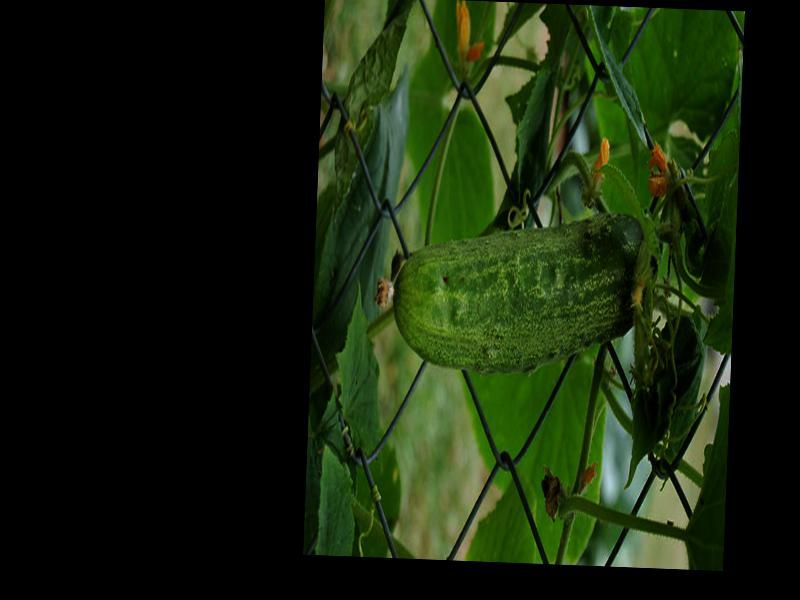Cucumber: (375, 208, 657, 376)
